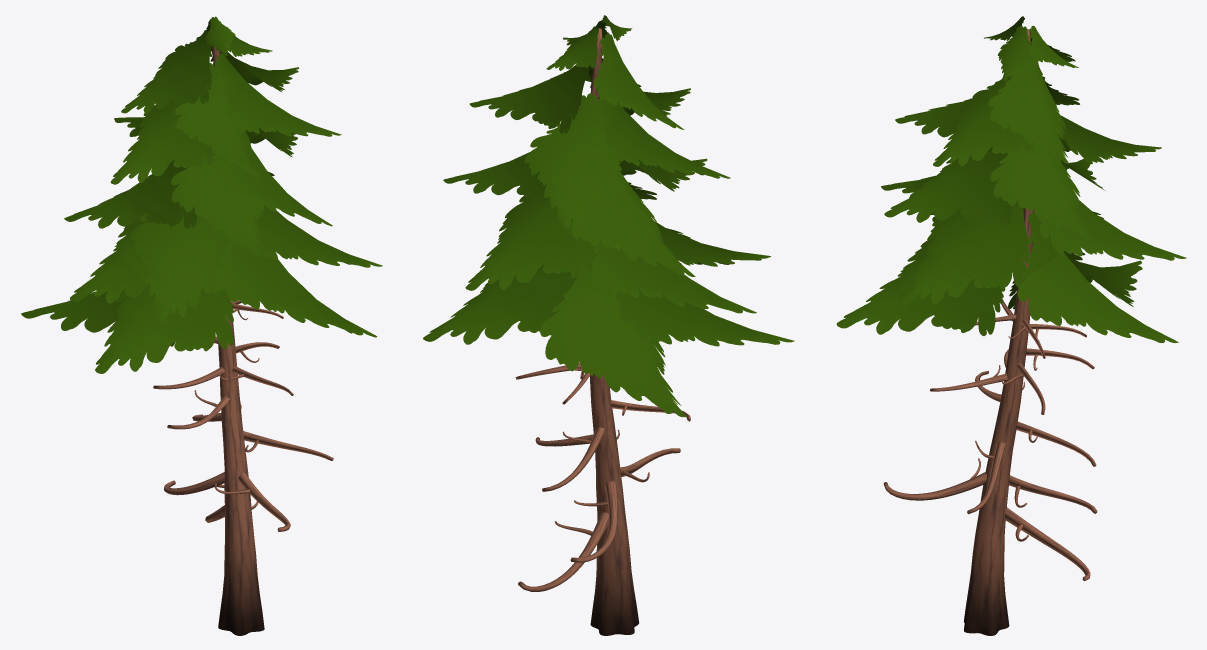
The model's file is Pine_3.glb.
The picture shows the model from 3 angles, left to right: view 1: azimuth 30°, elevation 25°; view 2: azimuth 150°, elevation 25°; view 3: azimuth 270°, elevation 25°; orthographic projection. The views are drawn at different scales.
Visible parts, largest first — view 1: Pine_3; view 2: Pine_3; view 3: Pine_3.
Boxes of the visible parts, x1,y1,x2,y2 form: Pine_3: (21,16,382,635); Pine_3: (423,15,794,635); Pine_3: (836,16,1186,635).
Size of the model in its own units: 3.61 by 7.39 by 4.
Materials: 2 (2 with a texture image).
